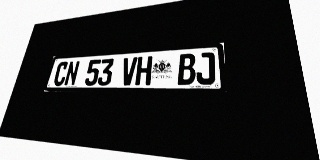3: (97, 58, 114, 86)
5: (84, 59, 101, 86)
B: (177, 53, 196, 85)
C: (52, 61, 69, 86)
H: (135, 56, 153, 85)
J: (196, 52, 215, 85)
N: (63, 61, 80, 86)
V: (120, 57, 138, 85)
